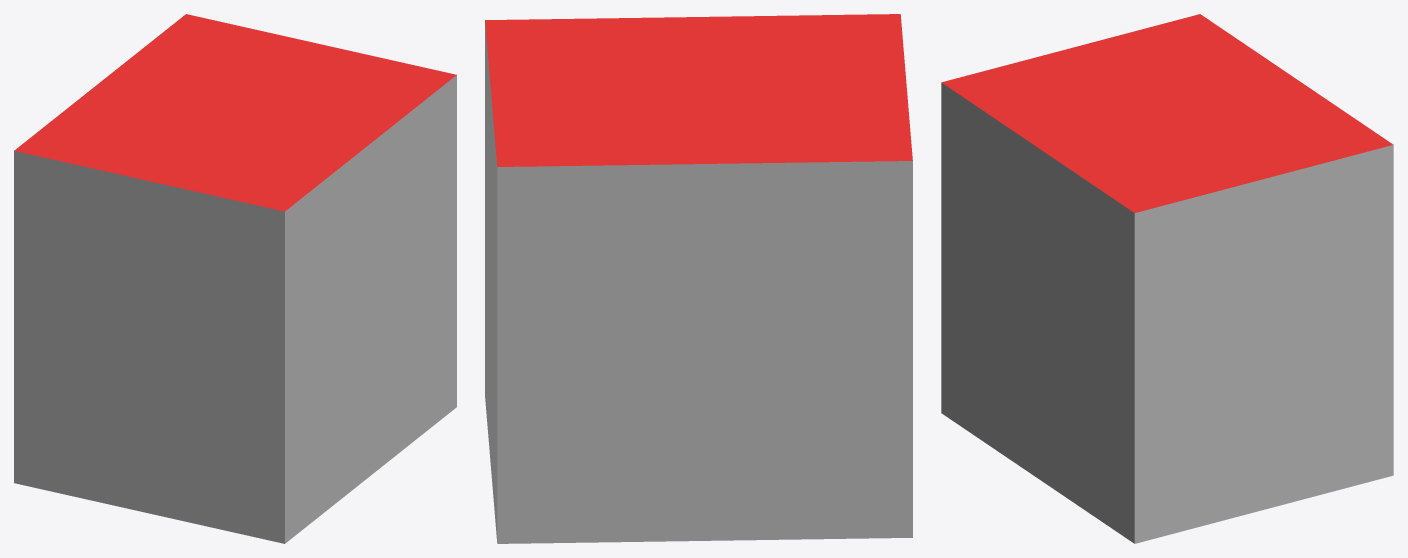
The picture shows the model from 3 angles, left to right: view 1: azimuth 30°, elevation 25°; view 2: azimuth 150°, elevation 25°; view 3: azimuth 270°, elevation 25°; orthographic projection. The views are drawn at different scales.
Size of the model in its own units: 16.79 by 16.11 by 13.
